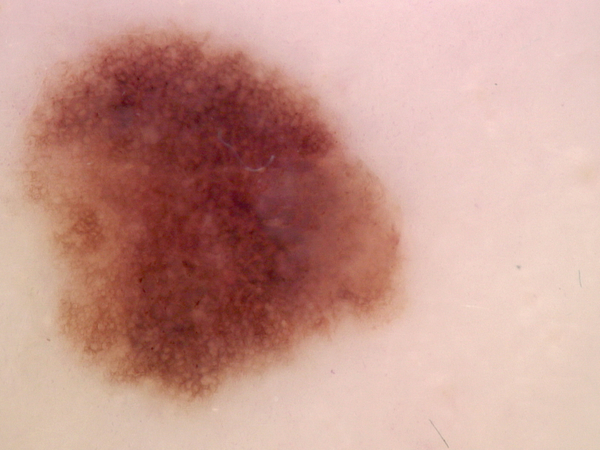Color changes: (69, 122, 143, 175)
